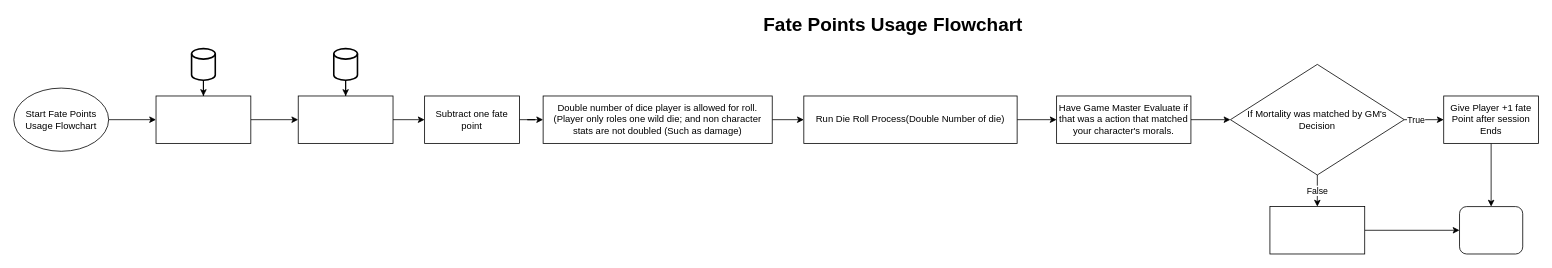
The diagram is 1552 pixels wide and 268 high, and some of its shapes have lost their labels. The shapes that lost their labels are listed below. From the top down, each one's centre as x and y in pixels, then its label:
At (x=203, y=119): "Get Players Current Roll that does not succeed desired check.".
At (x=345, y=119): "Get Players Current Number of Fate Points".
At (x=1317, y=230): "Subtract 1 Fate Point".
At (x=1491, y=230): "End Process".
